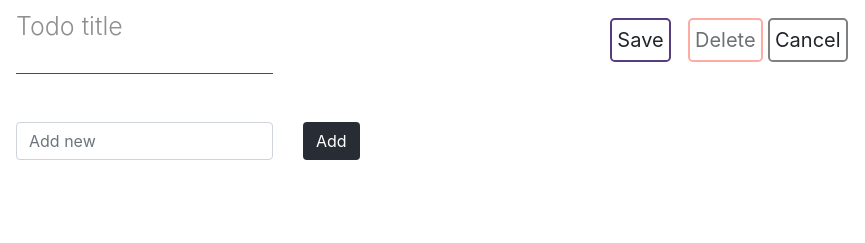
Test case: Saving and fetching to/from database › should render `Alert` with text `Nothing to save`
This screenshot has width=865, height=243.
Click the button with aria-label "action-save" at (641, 40), box [610,18,671,62]
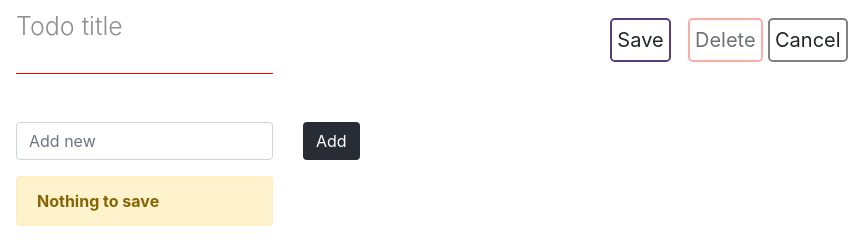
Check: the text "Nothing to save" is shown, box [37,191,159,211]
